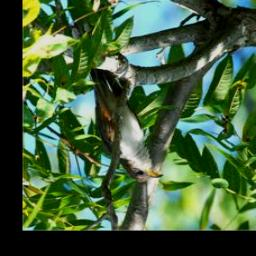Cuckoo: (89, 70, 163, 183)
